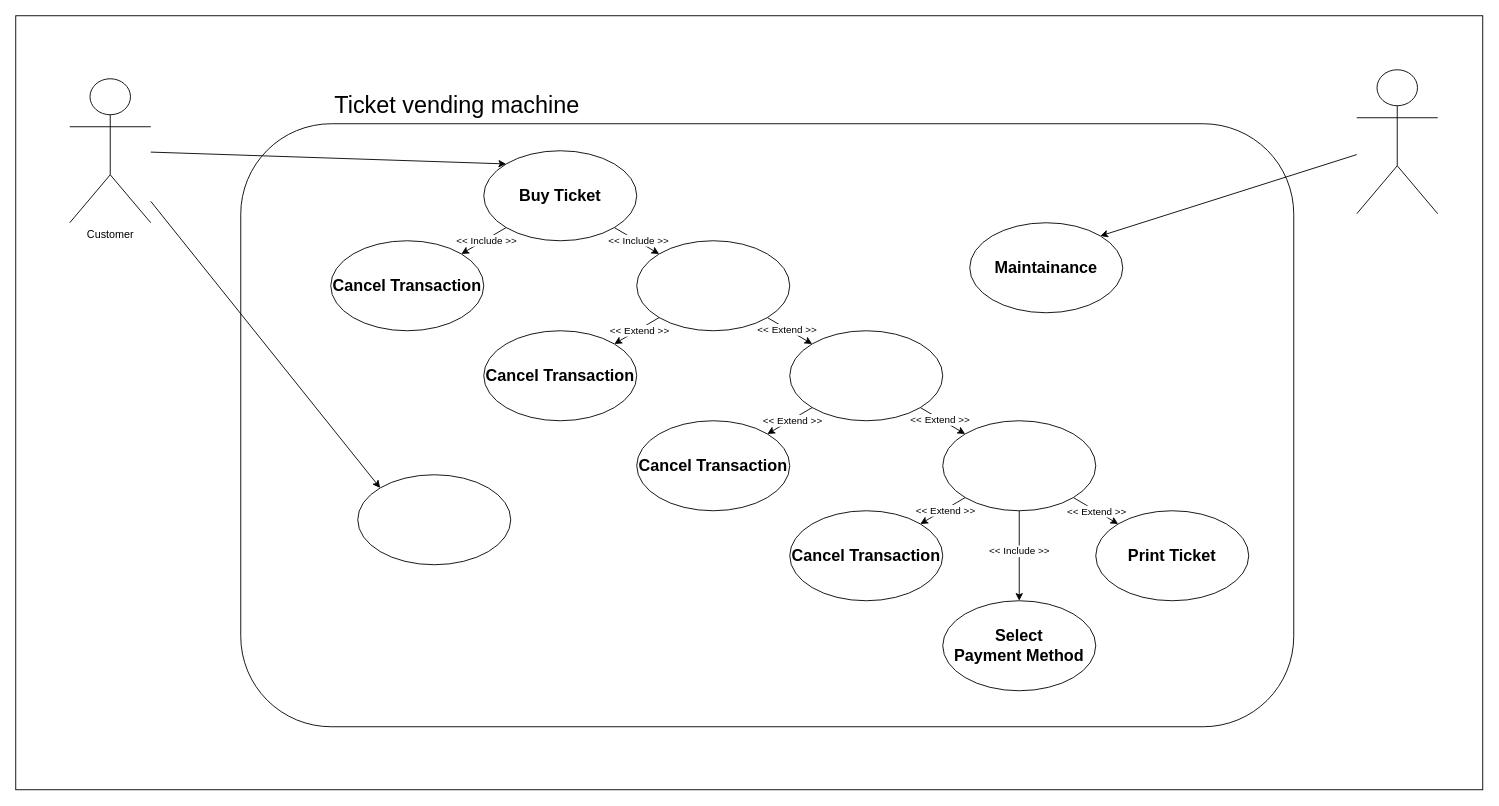
Image size: 1499x806. Some labels were removed from this diagram. Here are the shapes that lost their labels. From the top down, the box of each, then its label:
(1356, 69, 1438, 214): Staff
(636, 240, 790, 331): Select Destination
(789, 330, 943, 421): Select Ticket Type
(942, 420, 1096, 511): Enter Payment
(357, 474, 511, 565): Call Staff
